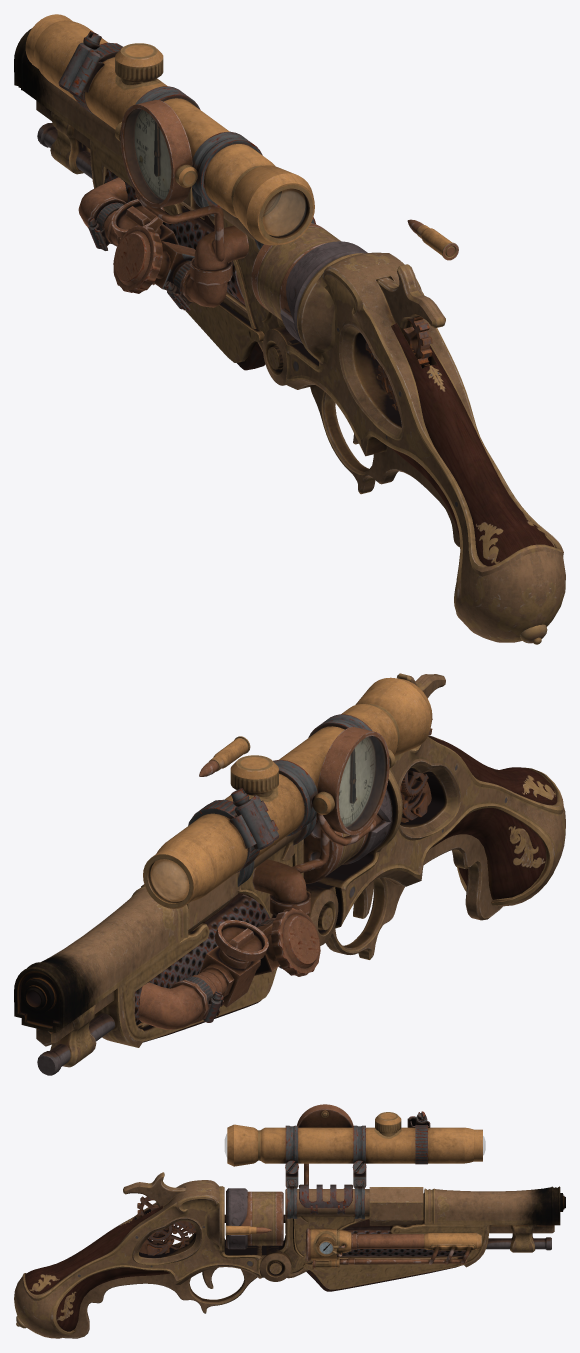
File: steampunk_gun.glb
3 views of the same model, one above another, from view 1: azimuth 30°, elevation 25°; view 2: azimuth 150°, elevation 25°; view 3: azimuth 270°, elevation 25° (orthographic). The views are drawn at different scales.
Visible parts, largest first — view 1: Cylinder.028, Cylinder.019, Cube.010, Cylinder.047, Cylinder.020, Cube.006, Cube.008, Cylinder.022, Circle.007, Cylinder.043, Cylinder.051, Cylinder.052 (+6 smaller); view 2: Cylinder.028, Cylinder.019, Cylinder.022, Cube.010, Cylinder.047, Cube.008, Cylinder.052, Circle.007, Cube.006, Circle.005, Cylinder.051, Cylinder.020 (+9 smaller); view 3: Cylinder.028, Cylinder.019, Cube.010, Cylinder.022, Cylinder.045, Cylinder.043, Cylinder.020, Cube.008, Cylinder.021, Cylinder.059, Cylinder.047, Plane.003 (+7 smaller).
Boxes of the visible parts, x1,y1,x2,y2 form: Cylinder.028: (285,252,565,642); Cylinder.019: (25,14,314,245); Cube.010: (36,101,445,370); Cylinder.047: (120,100,192,208); Cylinder.020: (251,223,367,343); Cube.006: (113,225,195,293); Cube.008: (310,385,459,547); Cylinder.022: (14,28,123,164); Circle.007: (135,191,248,285); Cylinder.043: (207,201,295,385); Cylinder.051: (58,31,122,116); Cylinder.052: (98,199,188,285); Cylinder.028: (307,735,565,928); Cylinder.019: (143,677,432,908); Cylinder.022: (14,885,188,1032); Cube.010: (36,673,445,1075); Cylinder.047: (317,727,389,835); Cube.008: (325,834,503,959); Cylinder.052: (192,920,268,1007); Circle.007: (252,813,376,916); Cube.006: (254,908,320,976); Circle.005: (139,979,208,1029); Cylinder.051: (188,788,279,873); Cylinder.020: (304,788,392,883); Cylinder.028: (14,1180,266,1338); Cylinder.019: (225,1112,485,1166); Cube.010: (123,1172,554,1291); Cylinder.022: (423,1186,560,1225); Cylinder.045: (306,1228,481,1268); Cylinder.043: (260,1189,369,1281); Cylinder.020: (224,1188,285,1249); Cube.008: (63,1267,257,1338); Cylinder.021: (369,1187,423,1225); Cylinder.059: (137,1196,195,1255); Cylinder.047: (297,1104,353,1127); Plane.003: (299,1184,352,1208).
Size of the model in its own units: 13.94 by 22.89 by 55.56.
3 materials, 3 textured.
